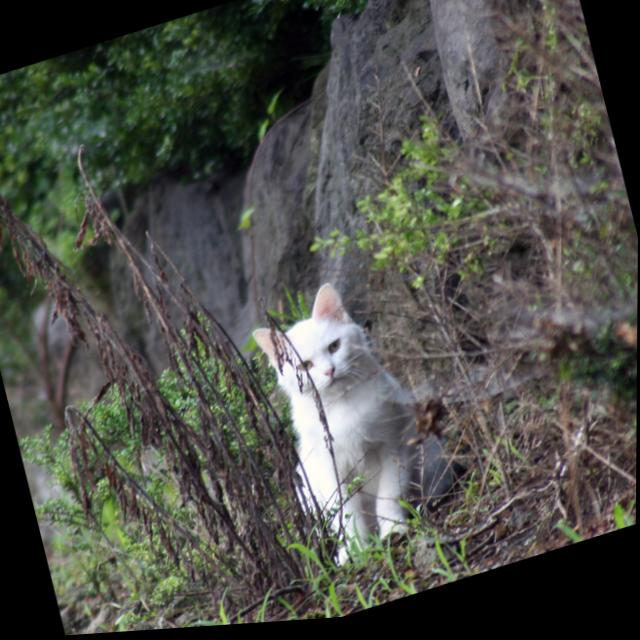animals: (249, 283, 362, 400)
